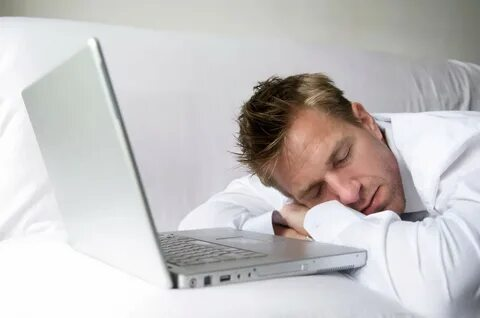sleep: (177, 74, 480, 253)
